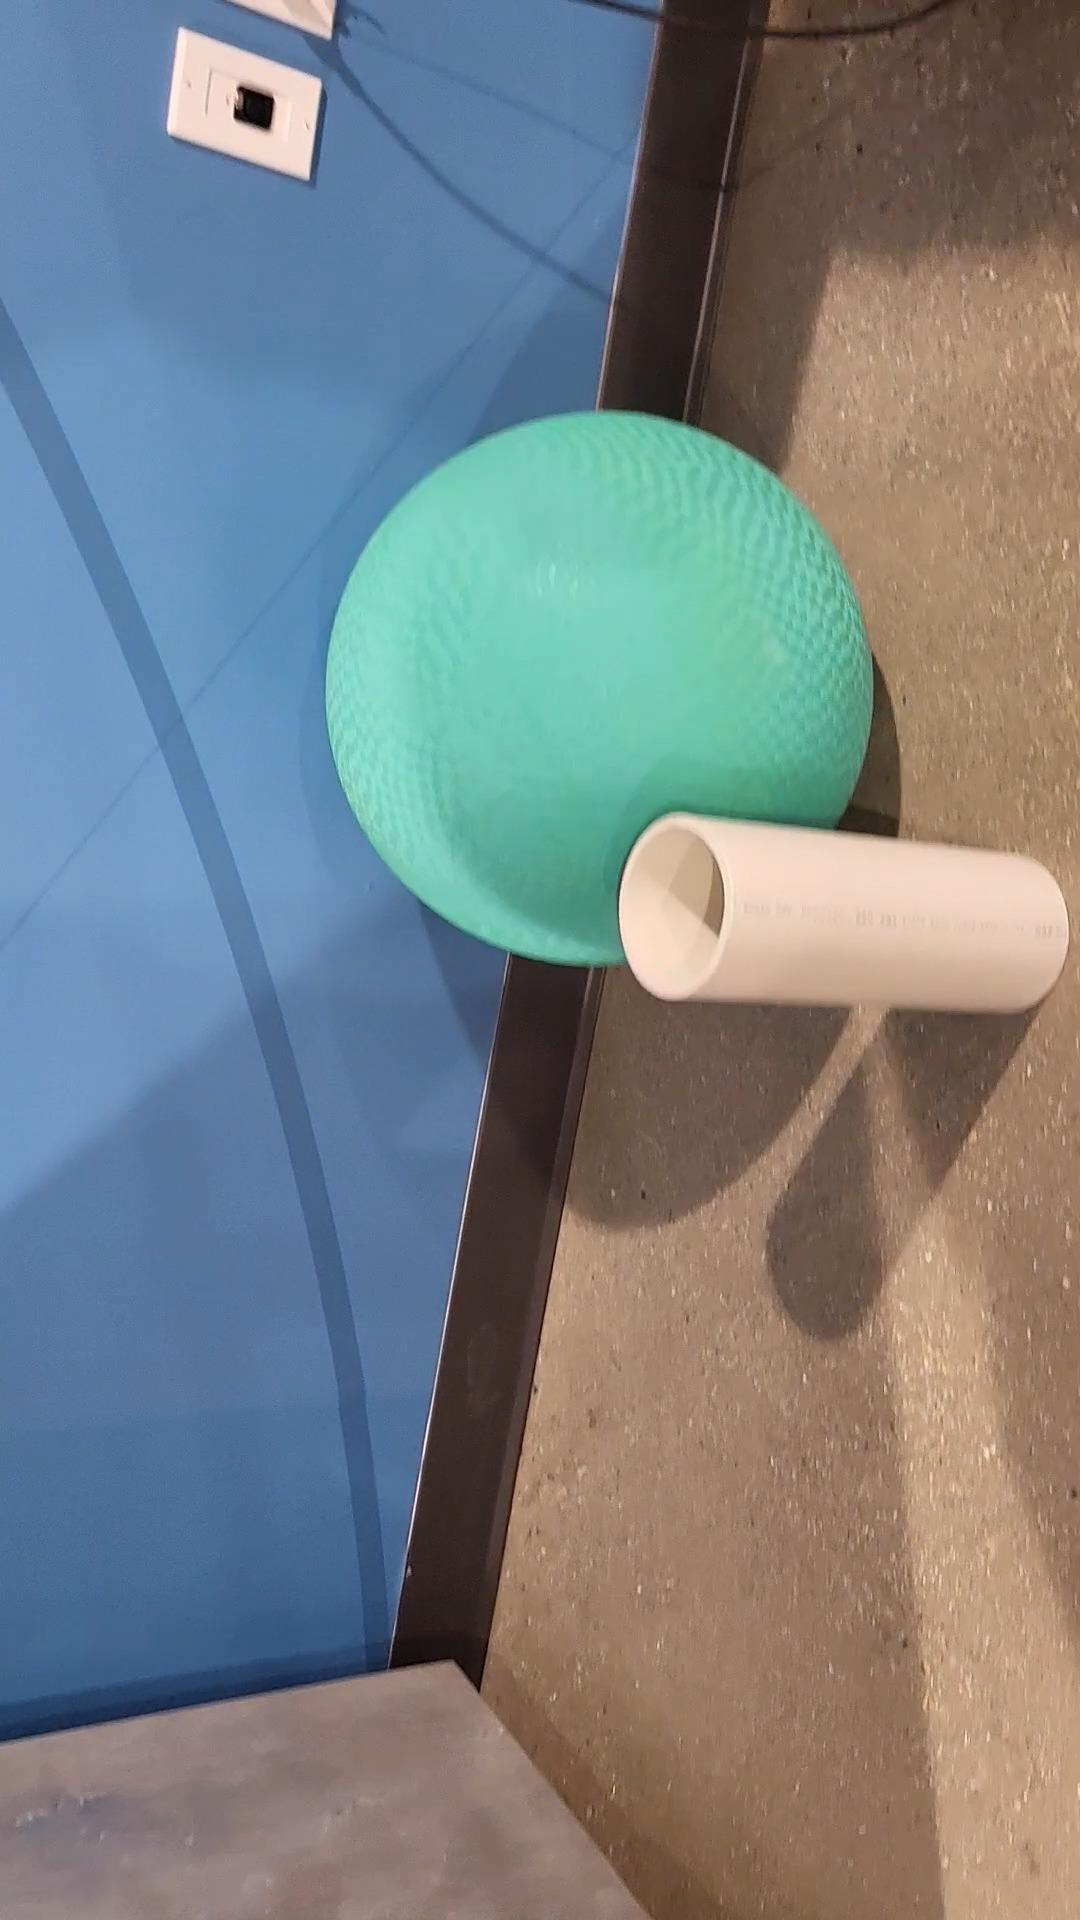algae: (318, 427, 899, 965)
coral: (617, 810, 1069, 1018)
